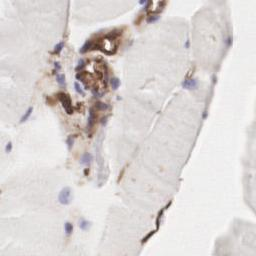nucleus: (59, 186, 74, 204), (19, 106, 32, 123), (79, 220, 94, 231), (81, 152, 93, 163), (74, 82, 84, 95), (66, 135, 74, 150), (64, 222, 73, 235), (57, 74, 66, 86), (148, 15, 161, 23), (112, 78, 120, 90), (184, 80, 196, 88), (4, 140, 12, 152), (185, 34, 191, 48), (80, 43, 90, 51), (76, 59, 85, 67), (138, 1, 146, 10), (56, 43, 64, 50), (53, 61, 61, 68), (92, 92, 103, 97), (88, 113, 93, 124), (202, 112, 208, 119), (227, 39, 232, 44)
positive_cell: (147, 1, 168, 25), (107, 70, 122, 92), (78, 35, 97, 52), (182, 68, 196, 89), (47, 40, 66, 55), (66, 130, 80, 150), (89, 81, 105, 97), (88, 107, 98, 129), (75, 73, 85, 93), (74, 58, 90, 70), (94, 100, 113, 110), (97, 114, 113, 125)
